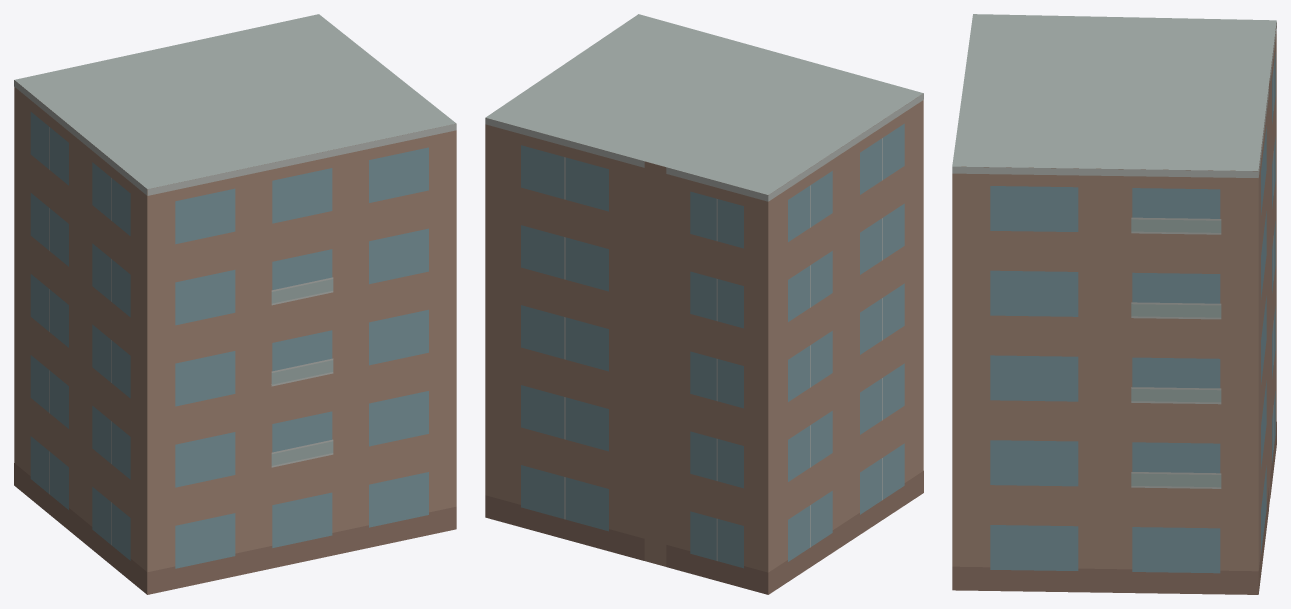
File: survey-upis-32995345.glb
3 views of the same model, side by side, from view 1: azimuth 30°, elevation 25°; view 2: azimuth 150°, elevation 25°; view 3: azimuth 270°, elevation 25° (orthographic). The views are drawn at different scales.
Parts seen in each view (by area): view 1: survey-upis-32995345.tmp; view 2: survey-upis-32995345.tmp; view 3: survey-upis-32995345.tmp.
Boxes of the visible parts, bbox=[...] form: survey-upis-32995345.tmp: bbox=[14, 14, 456, 594]; survey-upis-32995345.tmp: bbox=[485, 14, 923, 594]; survey-upis-32995345.tmp: bbox=[952, 14, 1276, 594].
Bounding box in the file's own units: 11.7 × 14.7 × 10.22.
